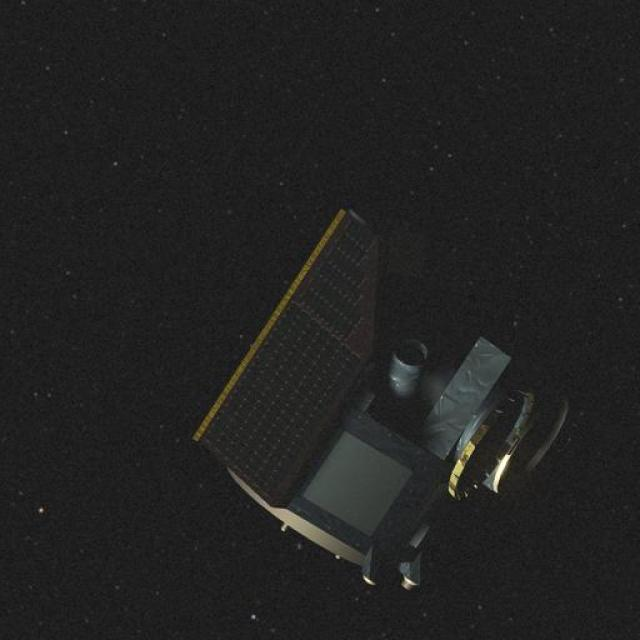cheops: (198, 211, 607, 609)
